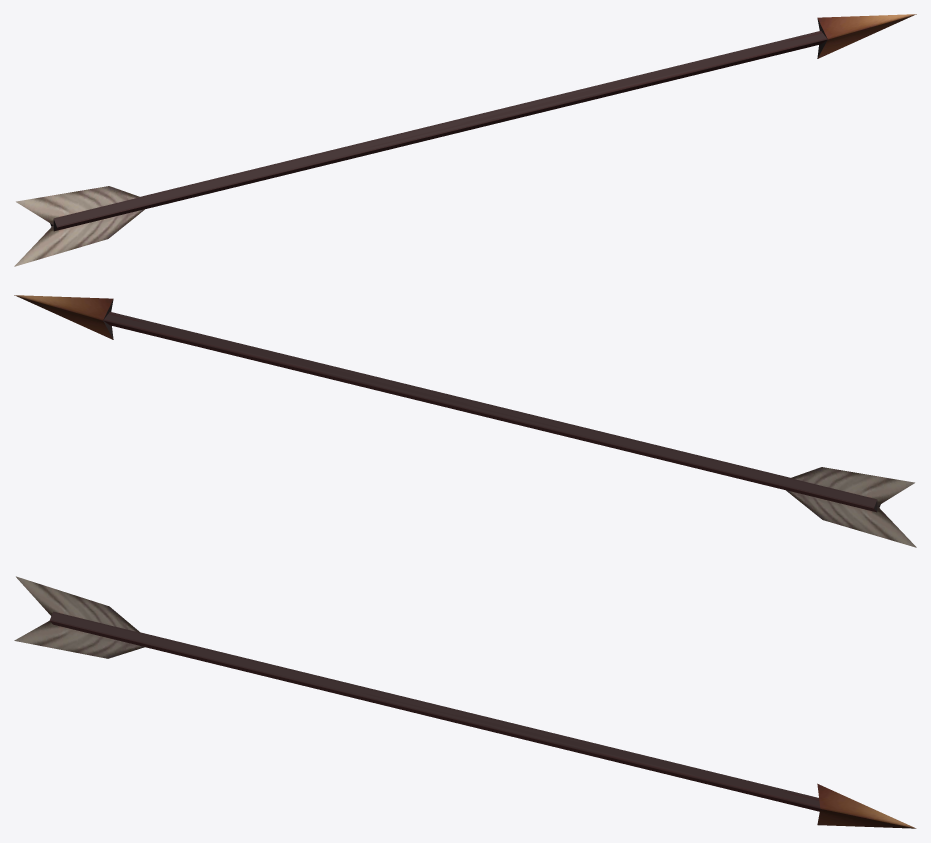
File: Hero_Yanne_Arrow.fbx
3 renders of one model, top to bottom at view 1: azimuth 30°, elevation 25°; view 2: azimuth 150°, elevation 25°; view 3: azimuth 330°, elevation 25°, orthographic.
Parts seen in each view (by area): view 1: Hero_Yanne_Arrow; view 2: Hero_Yanne_Arrow; view 3: Hero_Yanne_Arrow.
Boxes of the visible parts, x1=… form: Hero_Yanne_Arrow: x1=14, y1=14, x2=916, y2=266; Hero_Yanne_Arrow: x1=14, y1=295, x2=916, y2=547; Hero_Yanne_Arrow: x1=14, y1=576, x2=916, y2=828.
Size of the model in its own units: 2.1 by 0.1437 by 0.0304.
Materials: 1 (1 with a texture image).
